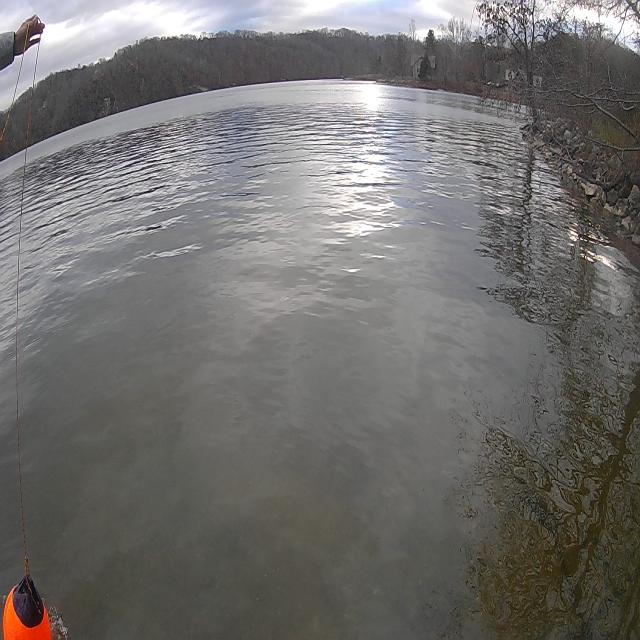Buoy: (1, 584, 58, 640)
